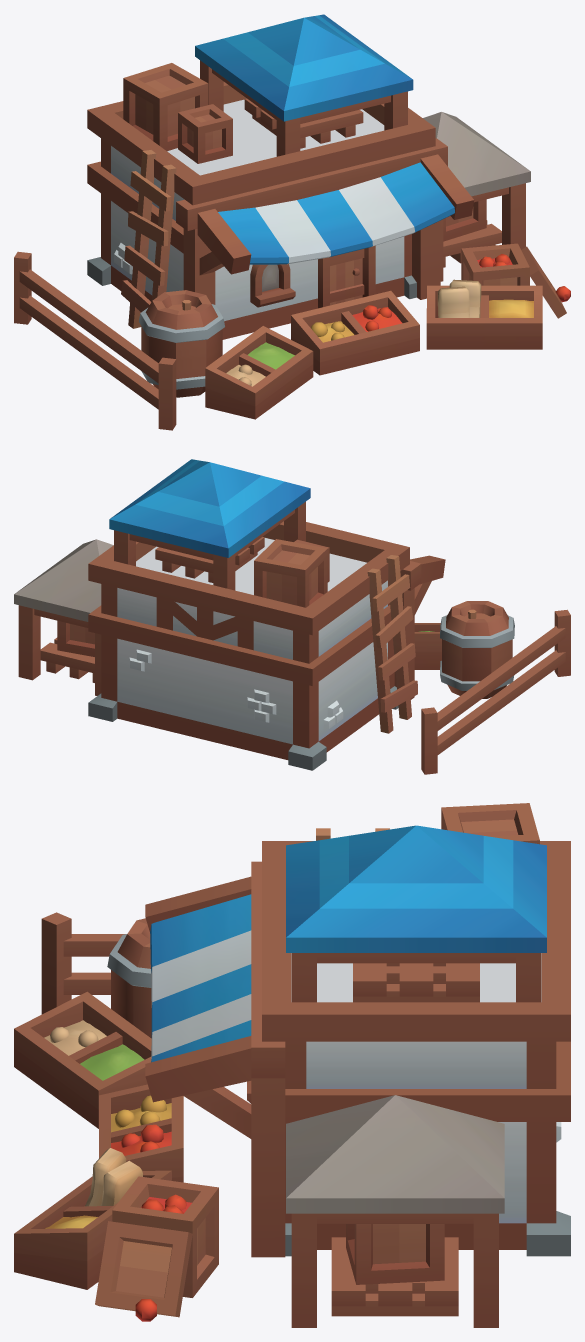
Rendered from market.glb.
3 views of the same model, one above another, from view 1: azimuth 30°, elevation 25°; view 2: azimuth 150°, elevation 25°; view 3: azimuth 270°, elevation 25° (orthographic). The views are drawn at different scales.
Visible parts, largest first — view 1: building_market_blue; view 2: building_market_blue; view 3: building_market_blue.
Part boxes in pixels (x1,y1,x2,y2): building_market_blue: (14,14,570,430); building_market_blue: (14,459,570,774); building_market_blue: (14,803,570,1327).
Bounding box in the file's own units: 1.8 × 0.9818 × 1.32.
Materials: 1 (1 with a texture image).
